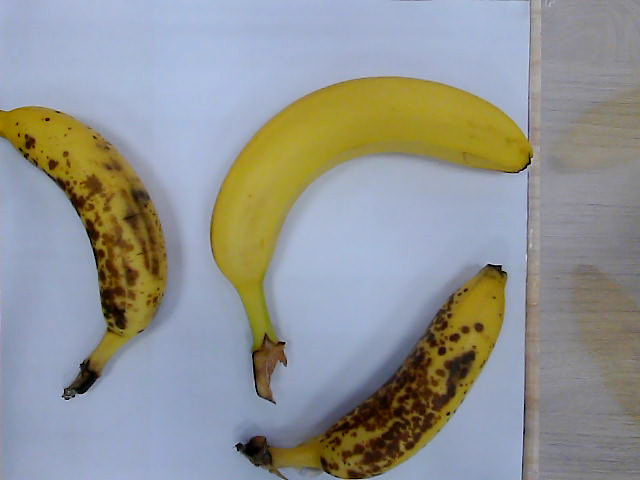fresh_banana: (211, 76, 534, 276)
rotten_banana: (251, 268, 507, 480), (2, 106, 169, 396)
